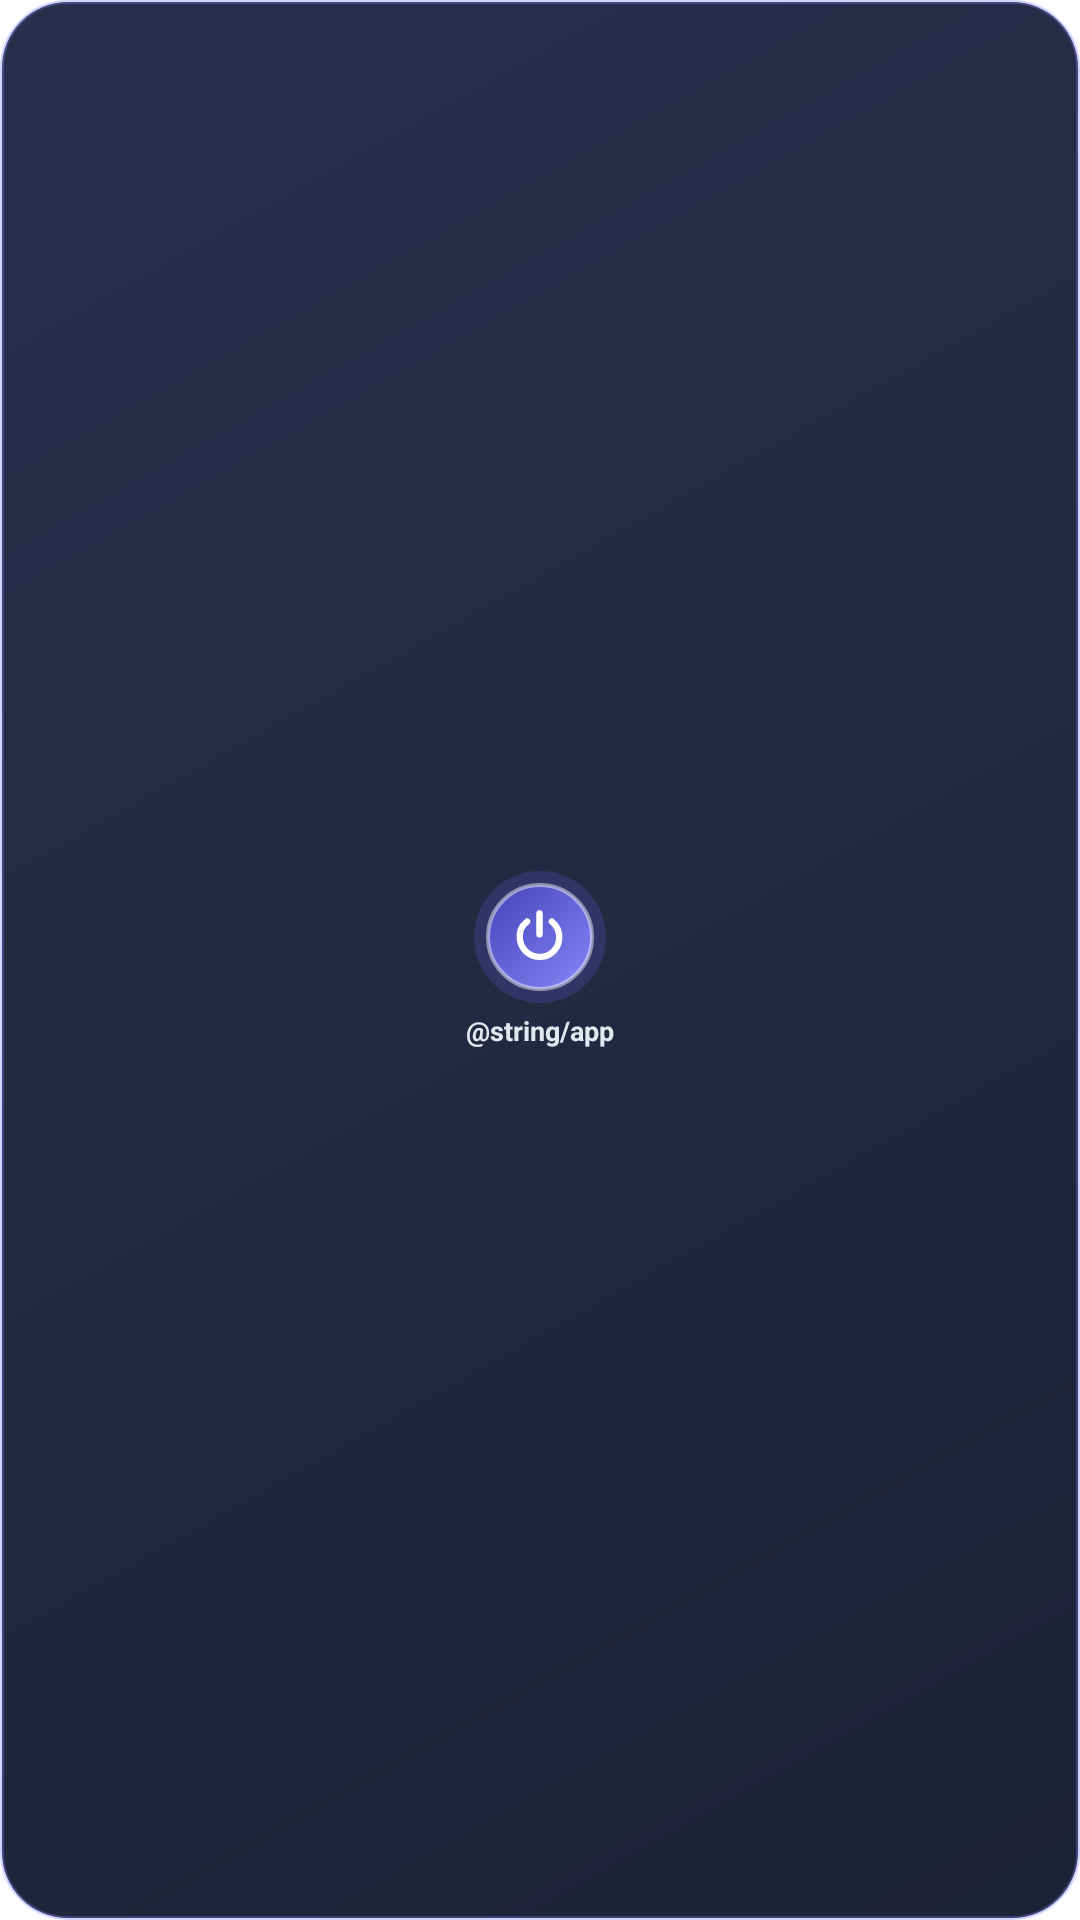

Screen size 1080w x 1920h. Icon name, then its box in pixels as [x1=x1, y1=y1, x2=x2, y2=y2]:
minab power: [x1=508, y1=905, x2=571, y2=968]
